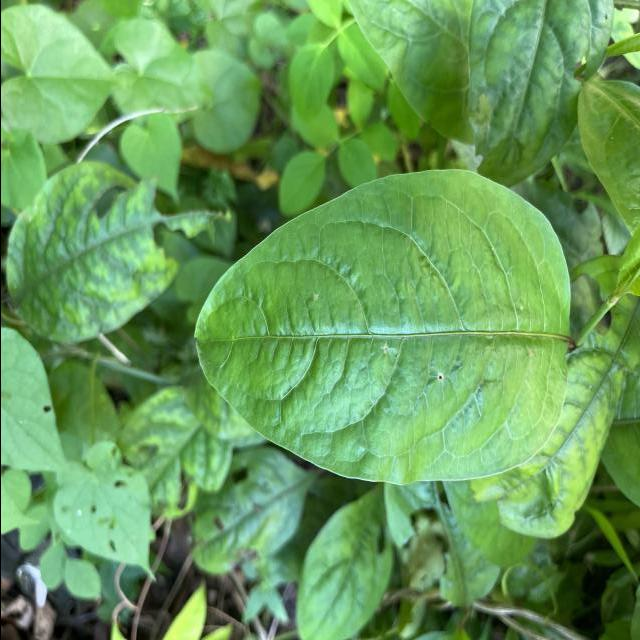Plumbago indica: (189, 166, 579, 494)
